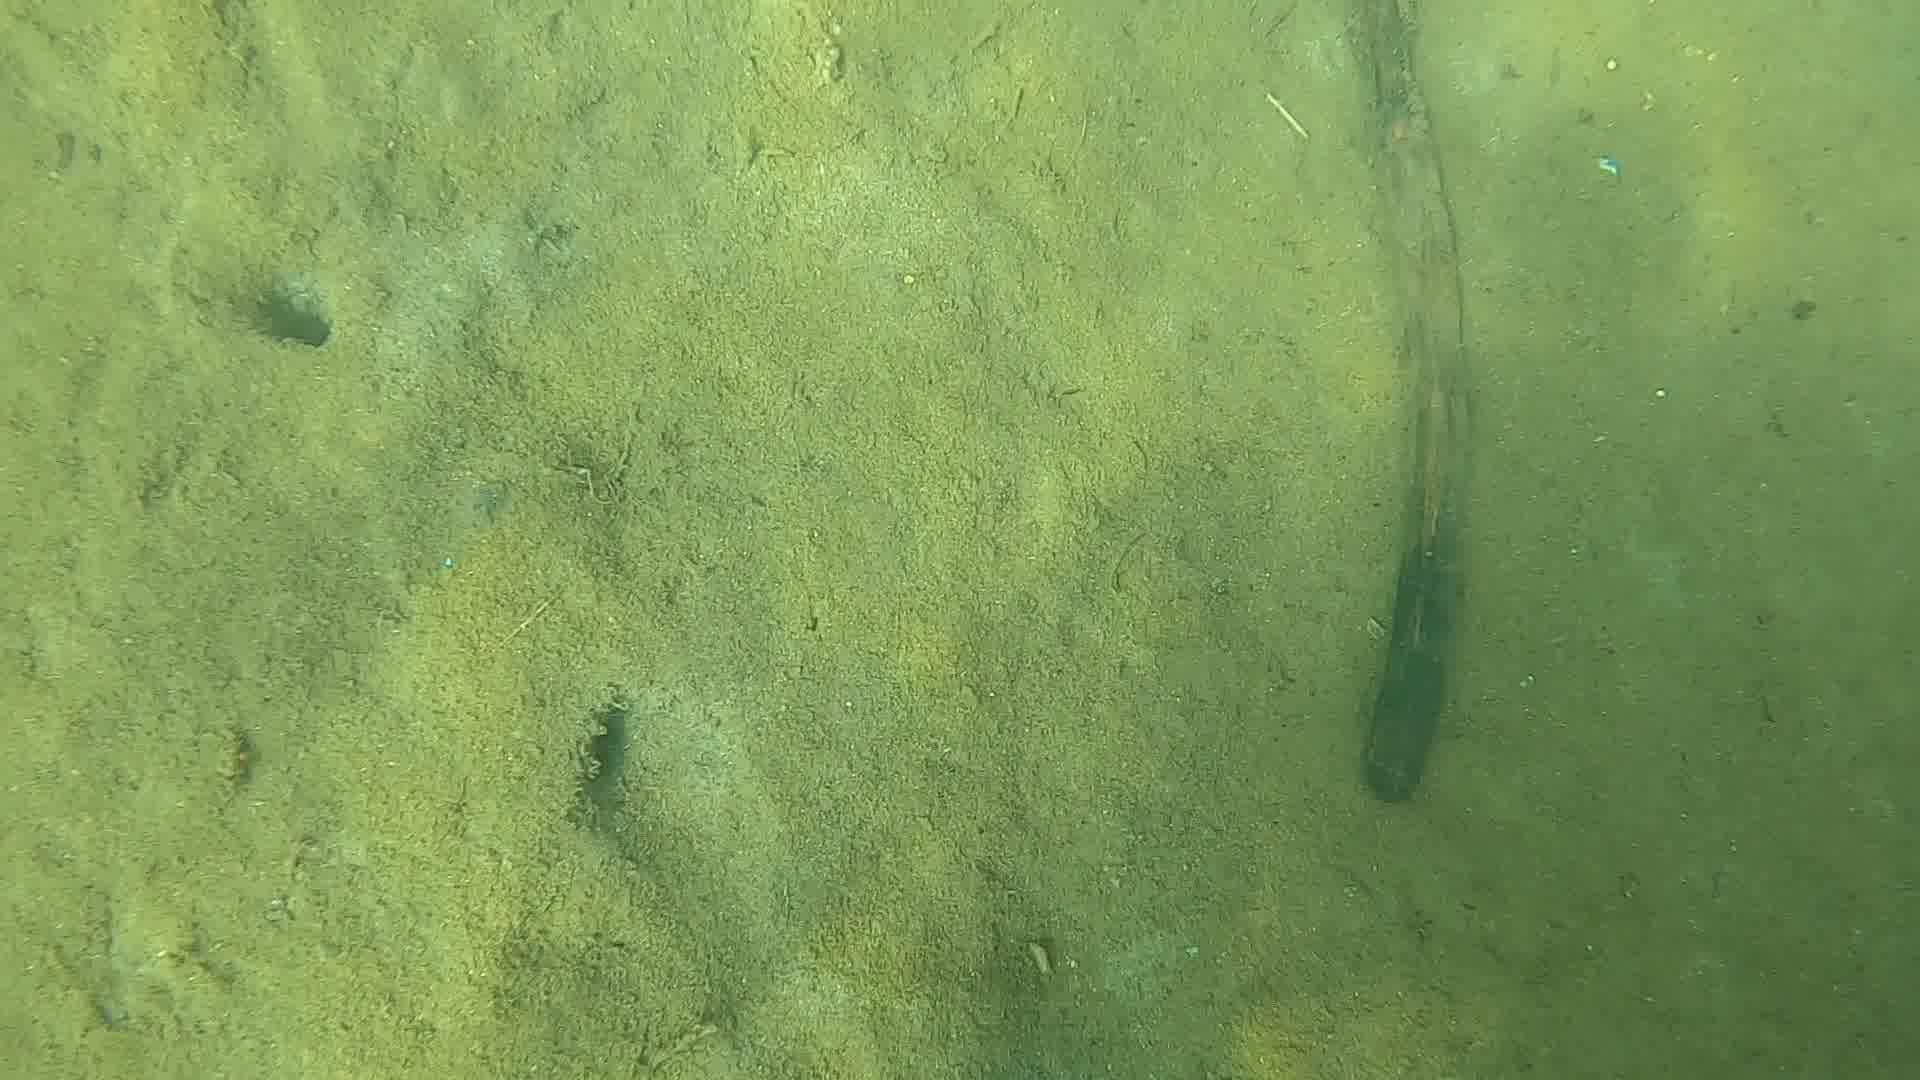wood: (1340, 0, 1465, 800)
